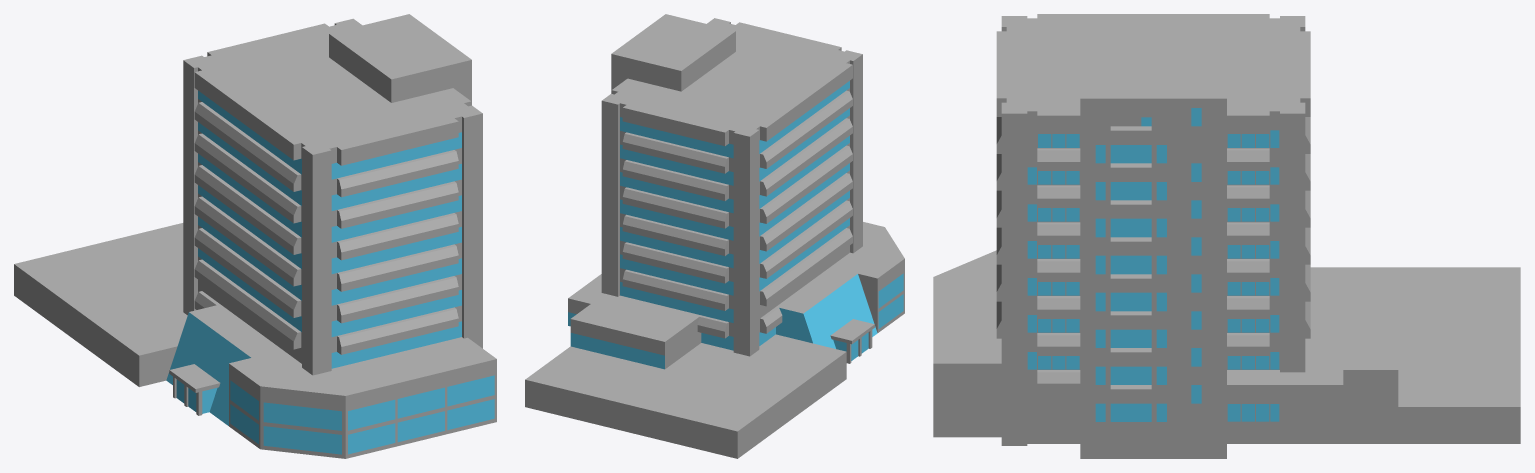
The model's file is SaeBit.glb.
3 renders of one model, left to right at view 1: azimuth 30°, elevation 25°; view 2: azimuth 150°, elevation 25°; view 3: azimuth 270°, elevation 25°, orthographic. The views are drawn at different scales.
Visible parts, largest first — view 1: Main, Window; view 2: Main, Window; view 3: Main, Window.
Part boxes in pixels (x1=…): Main: x1=14, y1=14, x2=496, y2=458; Window: x1=166, y1=90, x2=494, y2=454; Main: x1=525, y1=14, x2=904, y2=458; Window: x1=568, y1=81, x2=903, y2=369; Main: x1=933, y1=14, x2=1520, y2=458; Window: x1=1027, y1=108, x2=1279, y2=421.
Size of the model in its own units: 36.9 by 39 by 57.6.
